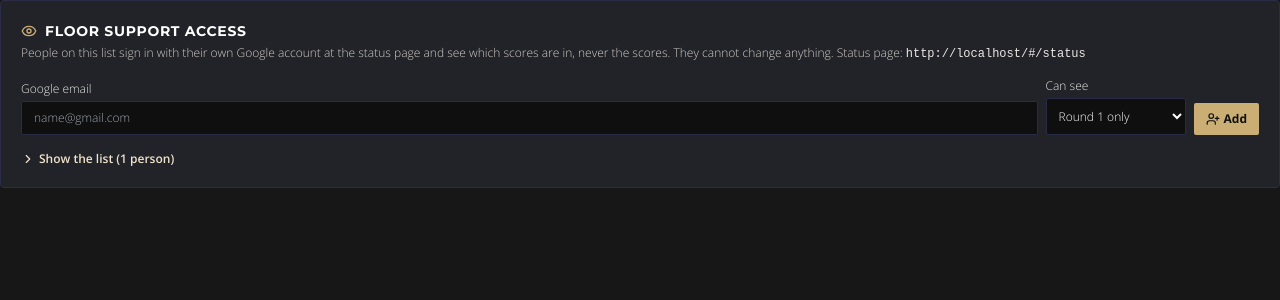
Scenario: Floor support access, the staff panel › changes access and removes a person
Expected: the text "floor.one@example.com" is not shown
Step 1. Click the button "Show the list (1 person)" → (98, 159), box [21,151,174,167]
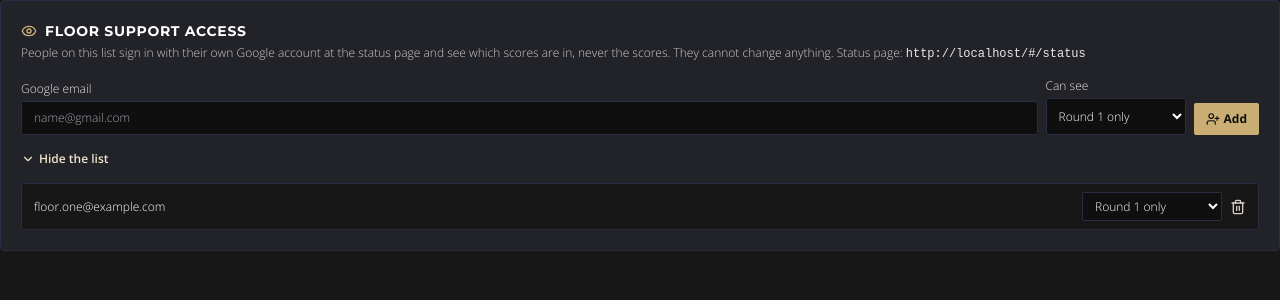
Step 2. Select "Round 1 and finale" in the dropdown named "Access for floor.one@example.com" → (1152, 206), box [1082,192,1222,221]
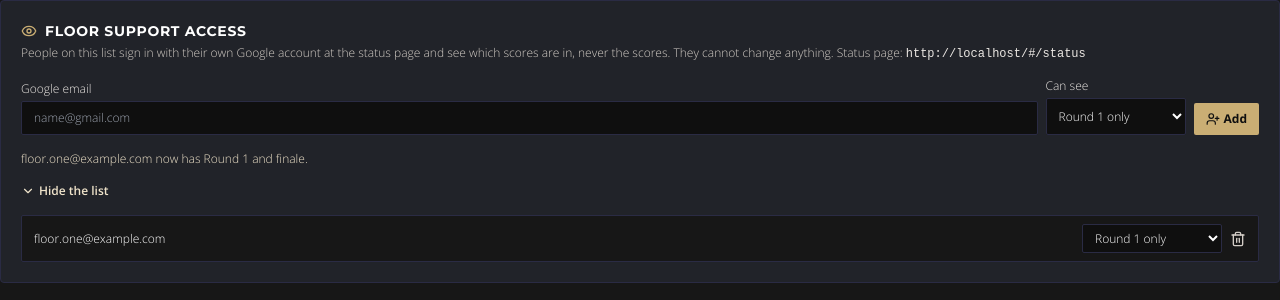
Step 3. Click the button named "Remove floor.one@example.com" → (1238, 238), box [1230,230,1246,246]
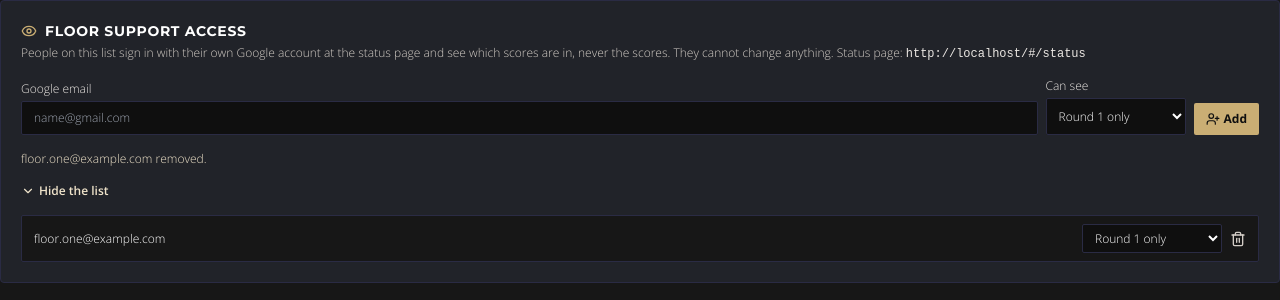
Expected: the text "floor.one@example.com removed." is shown, [21,150,207,167]
